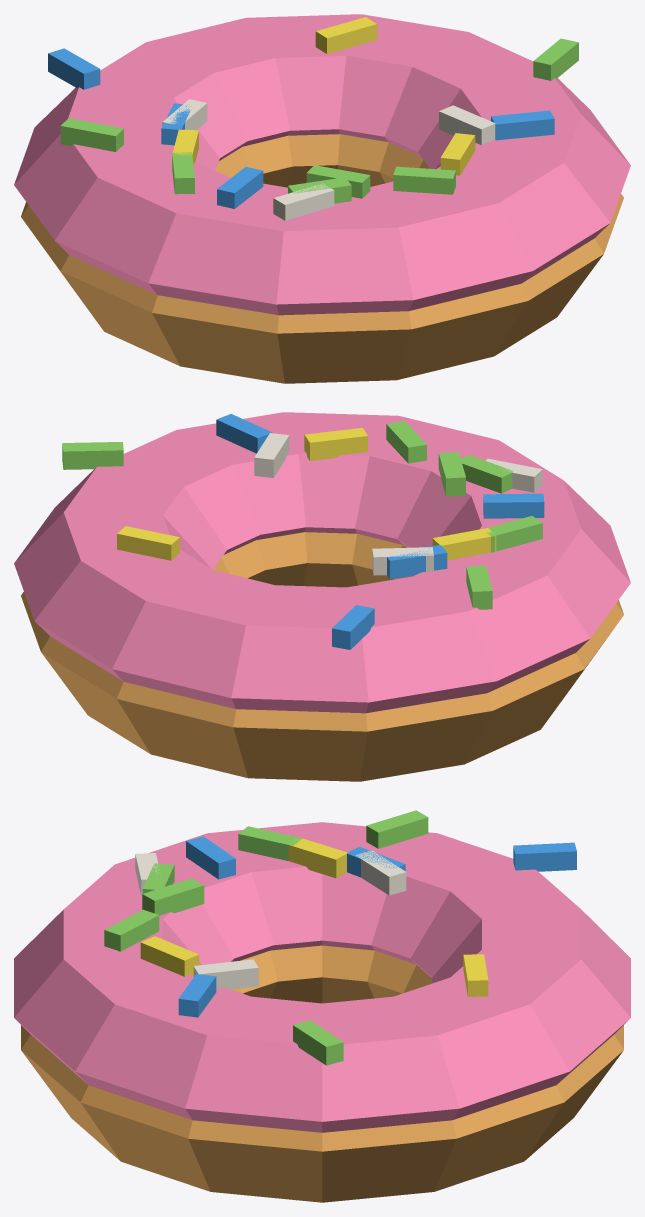
Rendered from donut.glb.
3 renders of one model, top to bottom at view 1: azimuth 30°, elevation 25°; view 2: azimuth 150°, elevation 25°; view 3: azimuth 270°, elevation 25°, orthographic. The views are drawn at different scales.
Visible parts, largest first — view 1: donut; view 2: donut; view 3: donut.
Boxes of the visible parts, box(x1,y1,x2,y2) form: donut: box(14, 14, 630, 383); donut: box(14, 412, 630, 781); donut: box(14, 810, 630, 1202).
Bounding box in the file's own units: 0.1227 × 0.0376 × 0.1196.
